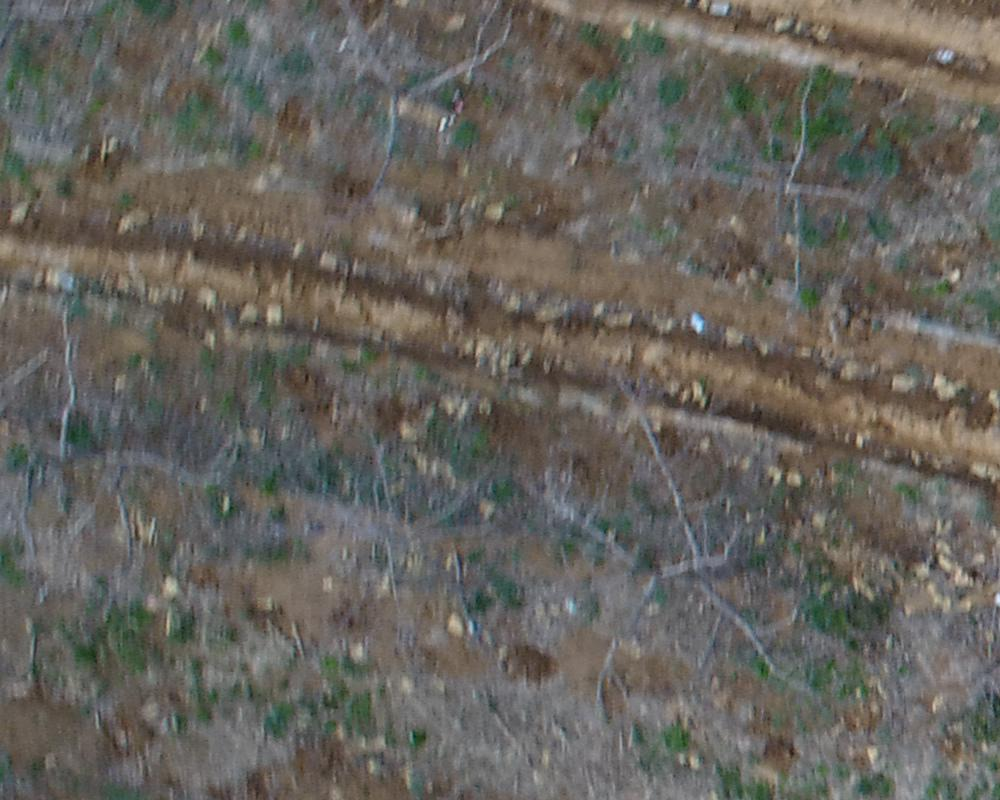apple: (545, 369, 827, 711), (646, 61, 889, 294), (292, 396, 503, 628), (294, 10, 538, 179), (898, 604, 990, 719)
